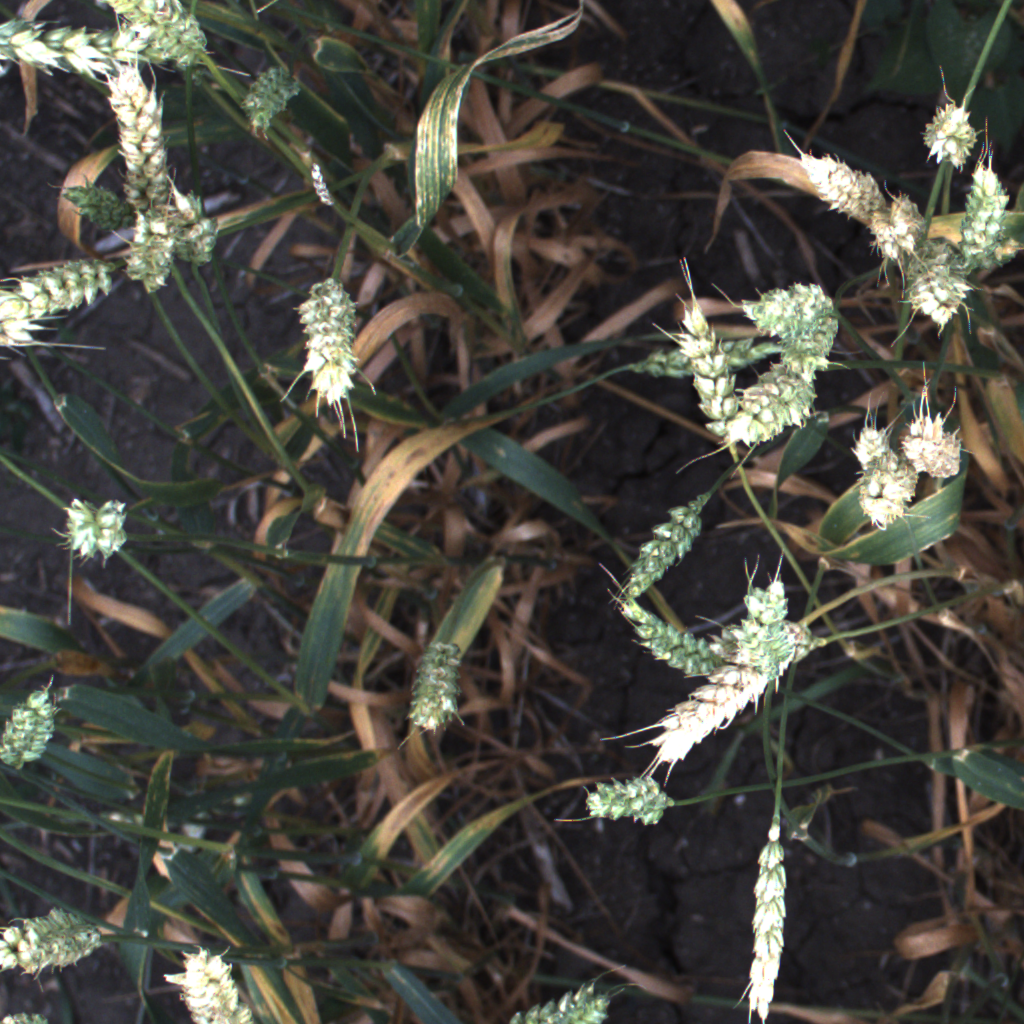wheat_head: (0, 15, 368, 410), (642, 613, 814, 777), (603, 591, 777, 688), (664, 280, 759, 449), (0, 245, 116, 362), (612, 321, 797, 389), (106, 60, 180, 222), (740, 834, 801, 1019), (619, 498, 723, 597), (101, 0, 227, 75), (715, 366, 813, 457), (158, 943, 268, 1024), (572, 757, 682, 831), (0, 669, 73, 780), (47, 481, 141, 567), (793, 152, 893, 225), (858, 182, 933, 278), (4, 904, 103, 971), (494, 968, 611, 1023), (737, 567, 802, 662), (904, 257, 981, 328), (764, 318, 843, 384), (964, 160, 1010, 265), (158, 191, 226, 261), (417, 638, 464, 734), (738, 284, 838, 327), (860, 456, 917, 528), (917, 105, 983, 165), (901, 413, 966, 472), (240, 67, 301, 129), (132, 215, 178, 286), (59, 185, 124, 231), (850, 420, 899, 470), (311, 164, 338, 208)
